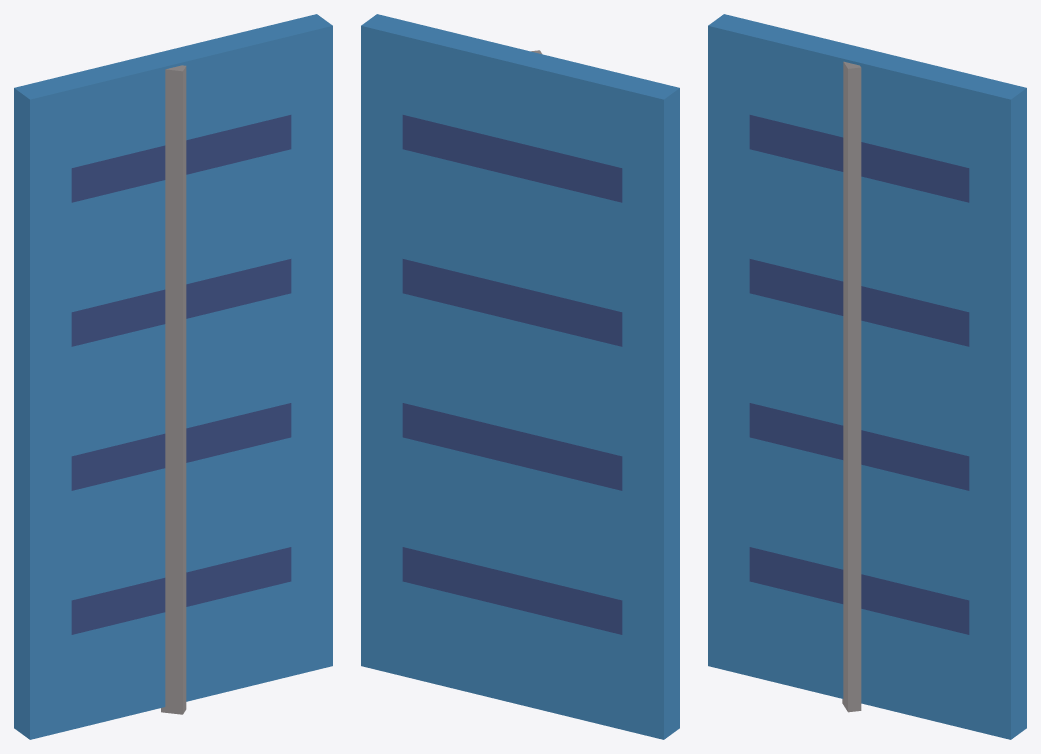
The model's file is cargo-shipping-door_L_blue.glb.
3 renders of one model, left to right at view 1: azimuth 30°, elevation 25°; view 2: azimuth 150°, elevation 25°; view 3: azimuth 330°, elevation 25°, orthographic.
Parts seen in each view (by area): view 1: cargo-shipping-door_L_blue; view 2: cargo-shipping-door_L_blue; view 3: cargo-shipping-door_L_blue.
Part boxes in pixels (box(x1,y1,x2,y2)): cargo-shipping-door_L_blue: box(14, 14, 332, 739); cargo-shipping-door_L_blue: box(361, 14, 679, 739); cargo-shipping-door_L_blue: box(708, 14, 1026, 739).
Size of the model in its own units: 1.09 by 2.22 by 0.1398.
1 material, 1 textured.
